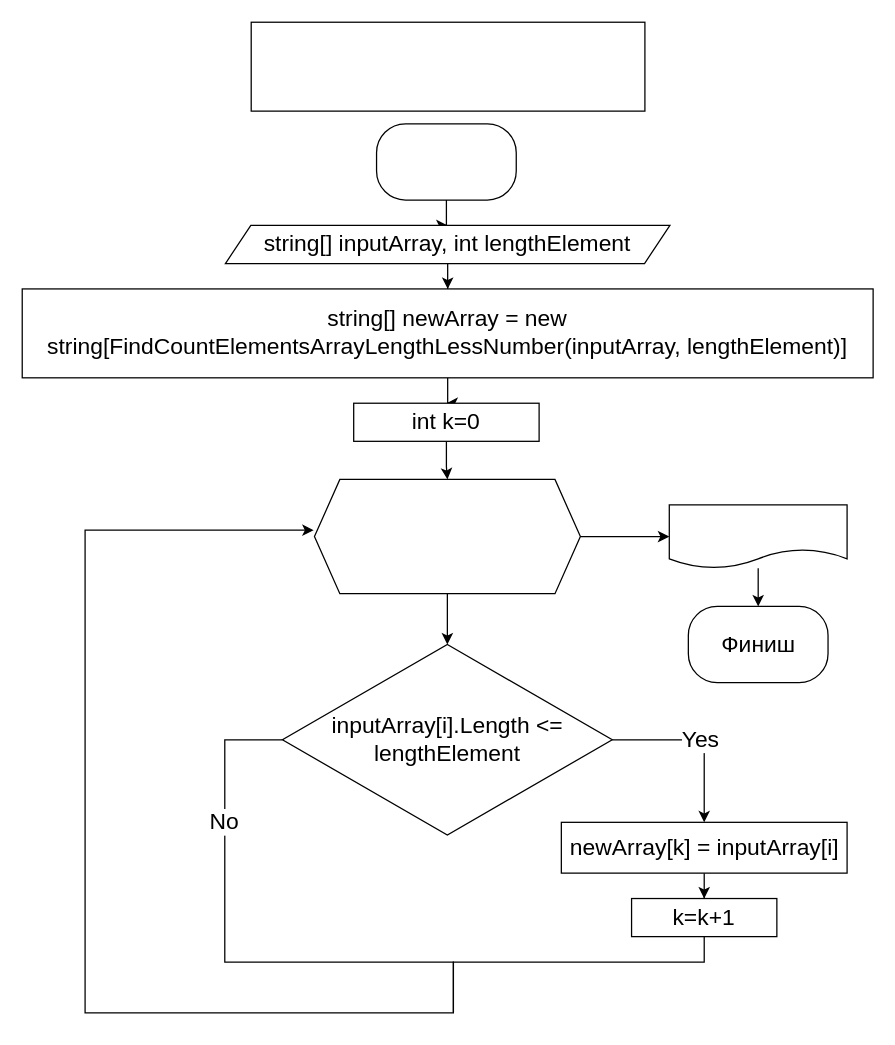
Image size: 895x1045. Some labels were removed from this diagram. The shapes that lost their labels are listed below. From the top down, each one's box as (x1, y1, x2, y2) in pixels, then its label:
(250, 21, 645, 111): Метод GetArrayElementsLengthLessNumber
(375, 123, 516, 200): Старт
(313, 478, 580, 594): i=0,inputArray.Length,1
(668, 504, 847, 568): newArray
